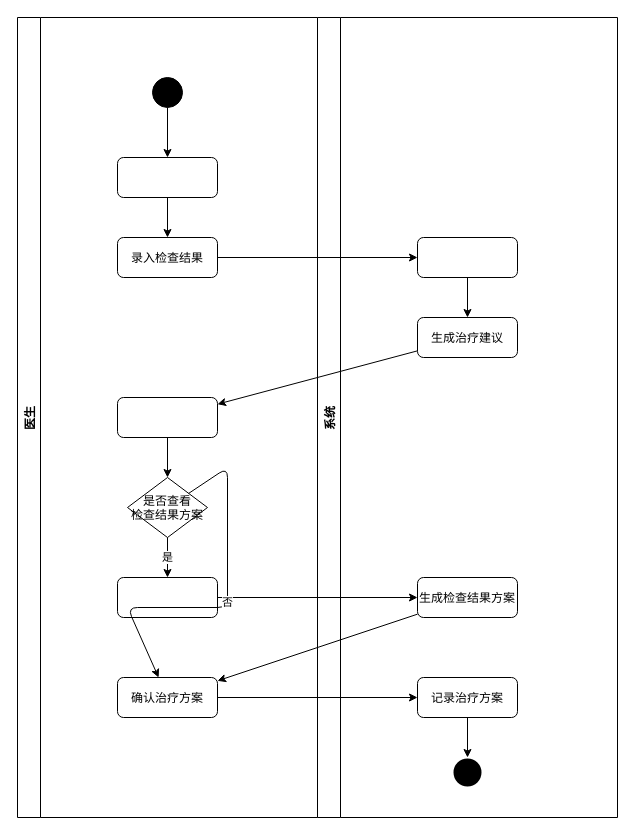
Image size: 635x835. Some labels were removed from this diagram. Each missing label, with the centre of its shape:
分析检查结果: point (467, 257)
查看检查结果方案: point (167, 597)
查看治疗建议: point (167, 417)
选择治疗类型 (中医/西医): point (167, 177)
